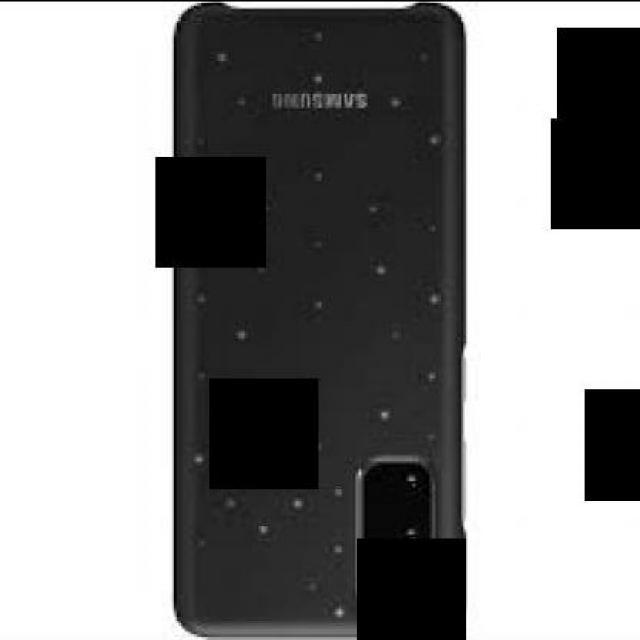fake: (174, 3, 466, 637)
